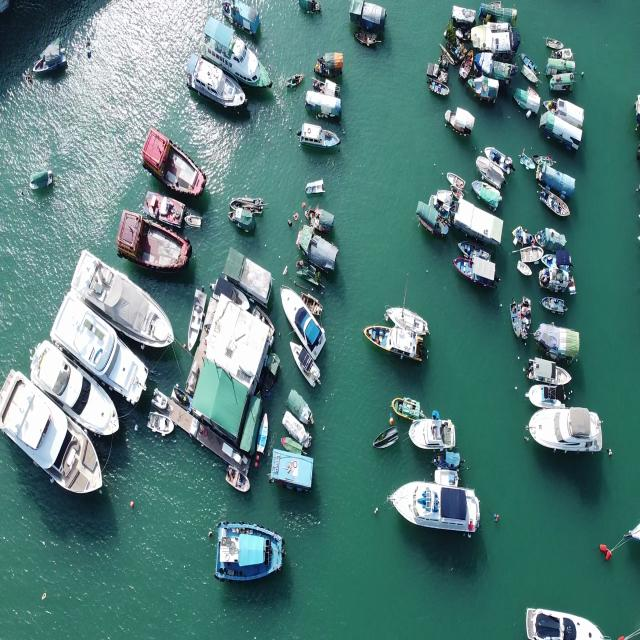ship: (3, 380, 110, 516), (50, 288, 150, 406), (77, 247, 173, 369), (32, 346, 122, 428), (213, 522, 290, 595), (198, 18, 273, 92), (391, 484, 493, 536), (140, 128, 208, 202), (120, 212, 193, 276), (170, 56, 249, 114), (528, 405, 606, 462), (279, 284, 322, 361)
